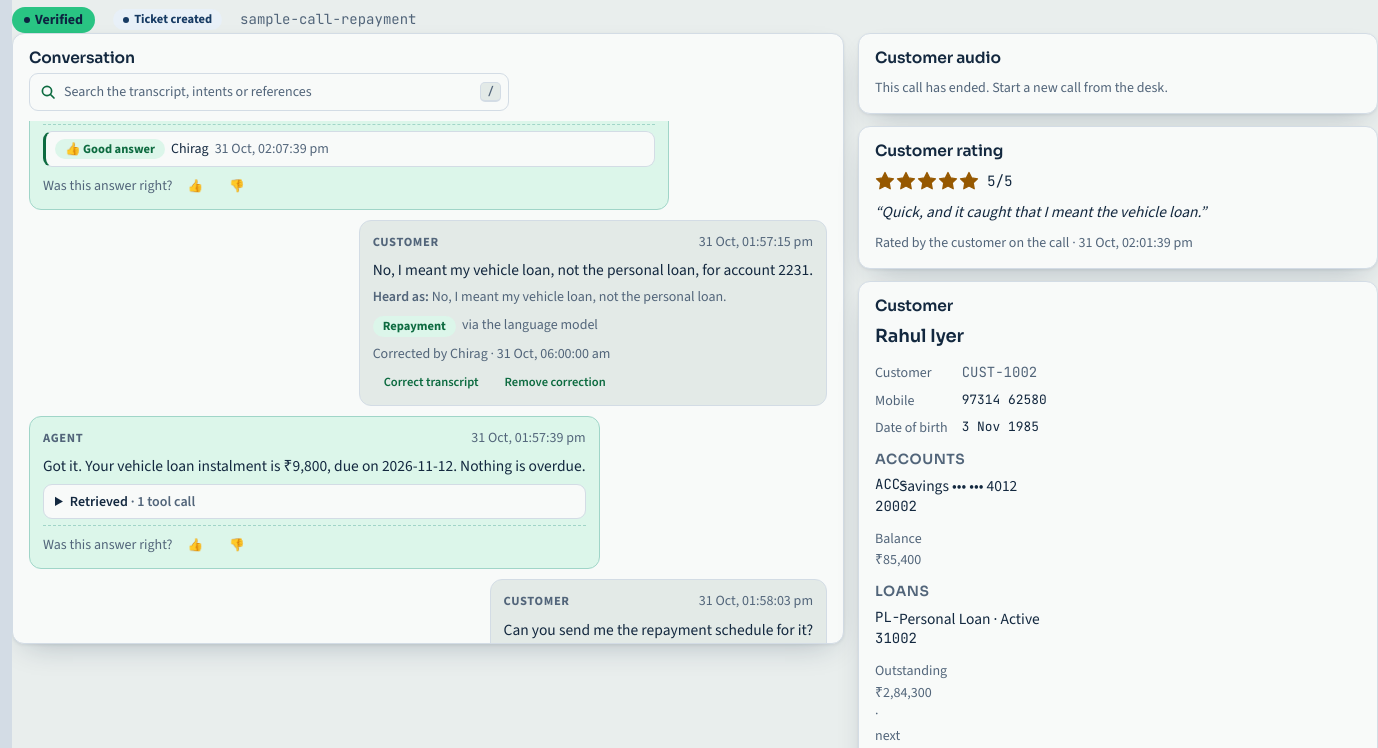
it: caller transcript corrections (Level 2 §6) › notes, without blocking, when the live agent could not be updated for another reason
This screenshot has width=1378, height=748.
(page scrolled)
Click the button "Correct transcript".
click(431, 382)  # box [373,369,490,395]
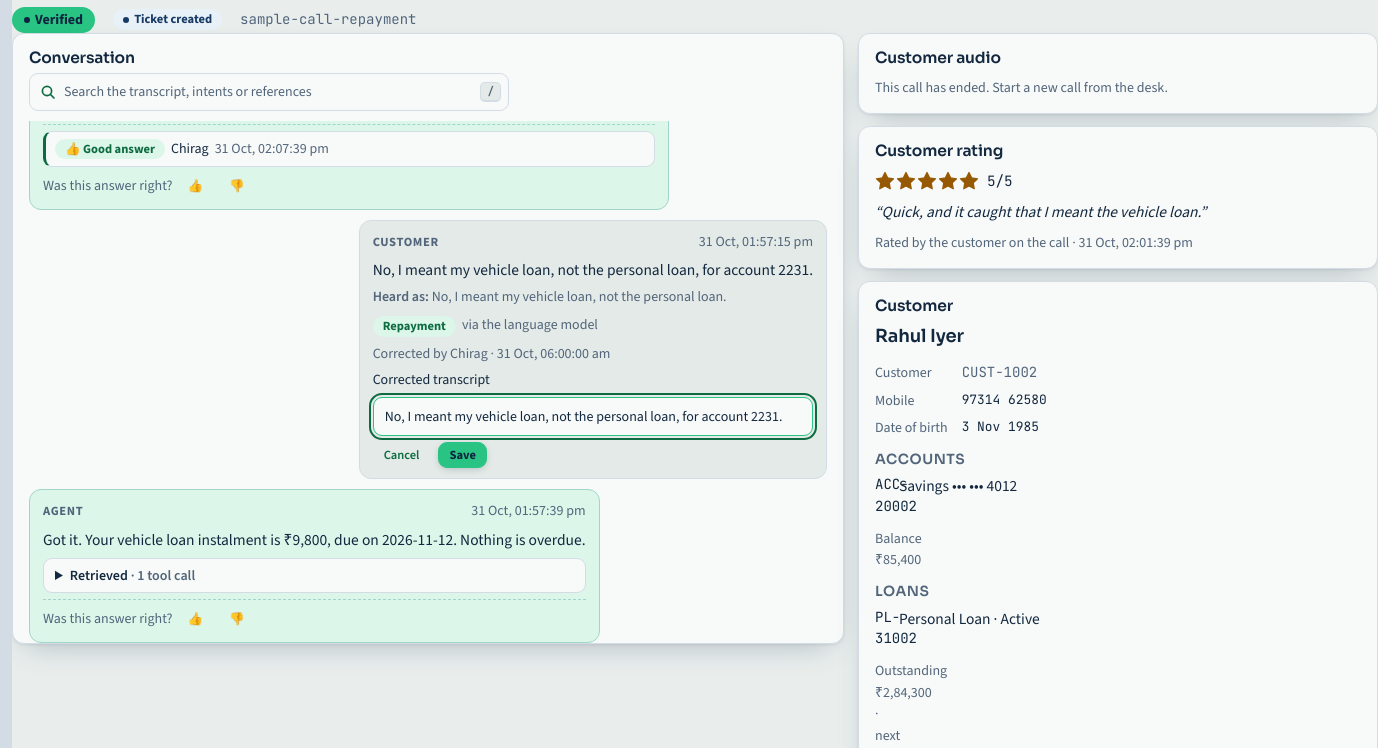
Replace the text in the field labelled "Corrected transcript" with "My number is 97314 62580" at [593, 416], box [373,397,813,436]
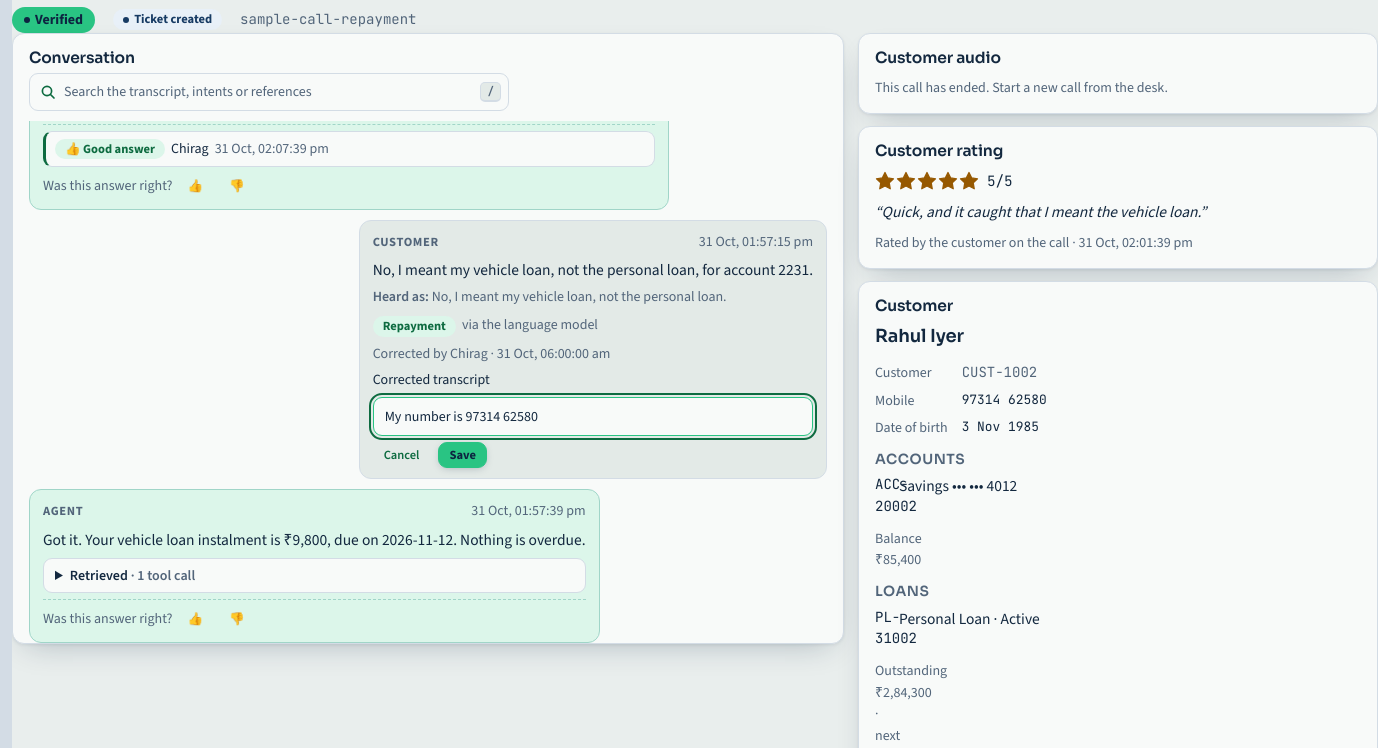
Click the button "Save".
click(463, 455)  # box [438,442,487,468]
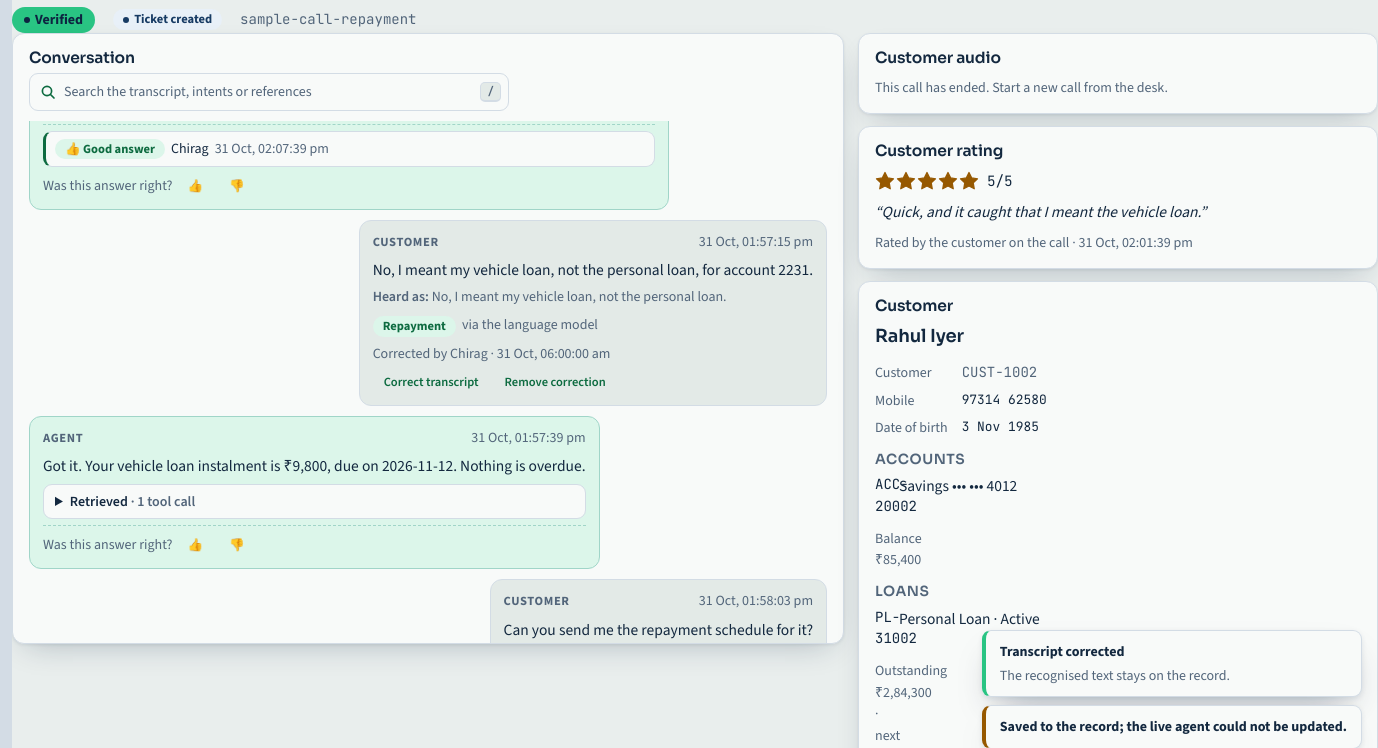
Now the text "Saved to the record; the live agent could not be updated." is shown, box [1000,716,1347,738]
Now the text "Transcript corrected" is shown, box [1000,642,1124,661]
